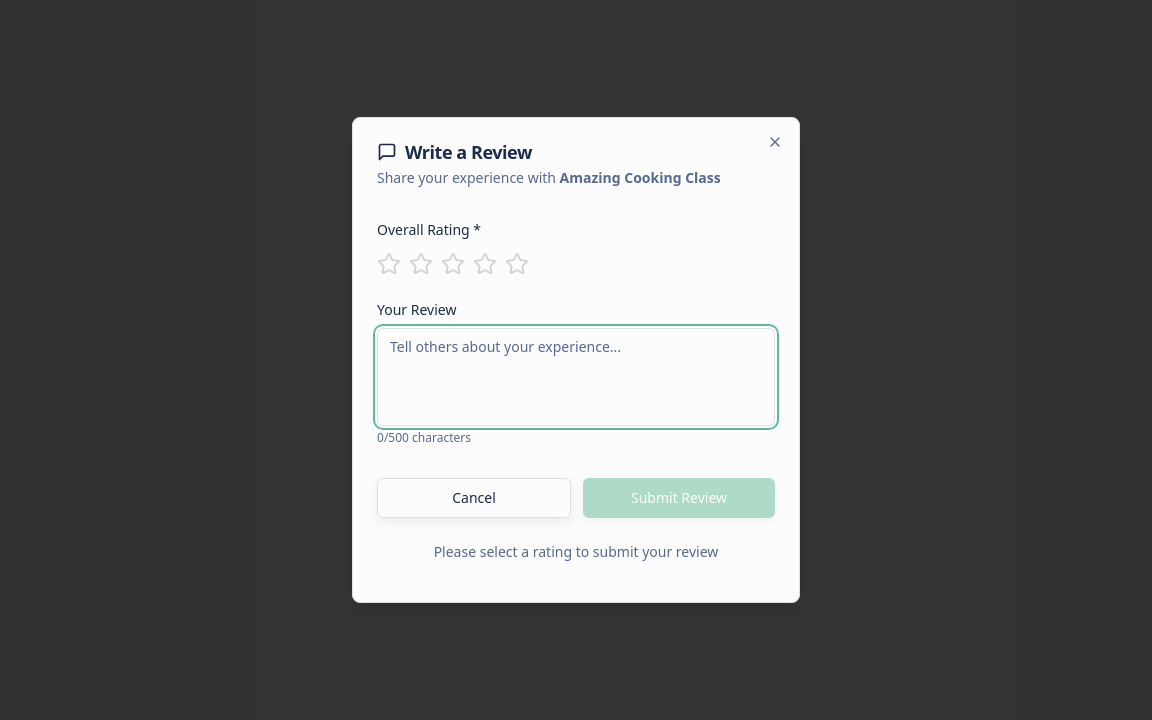
Scenario: WriteReviewModal › should update character count when typing review
Type "Great experience!" into the text box with placeholder "Tell others about your experience...". click: (576, 377)
box: [377, 328, 775, 426]
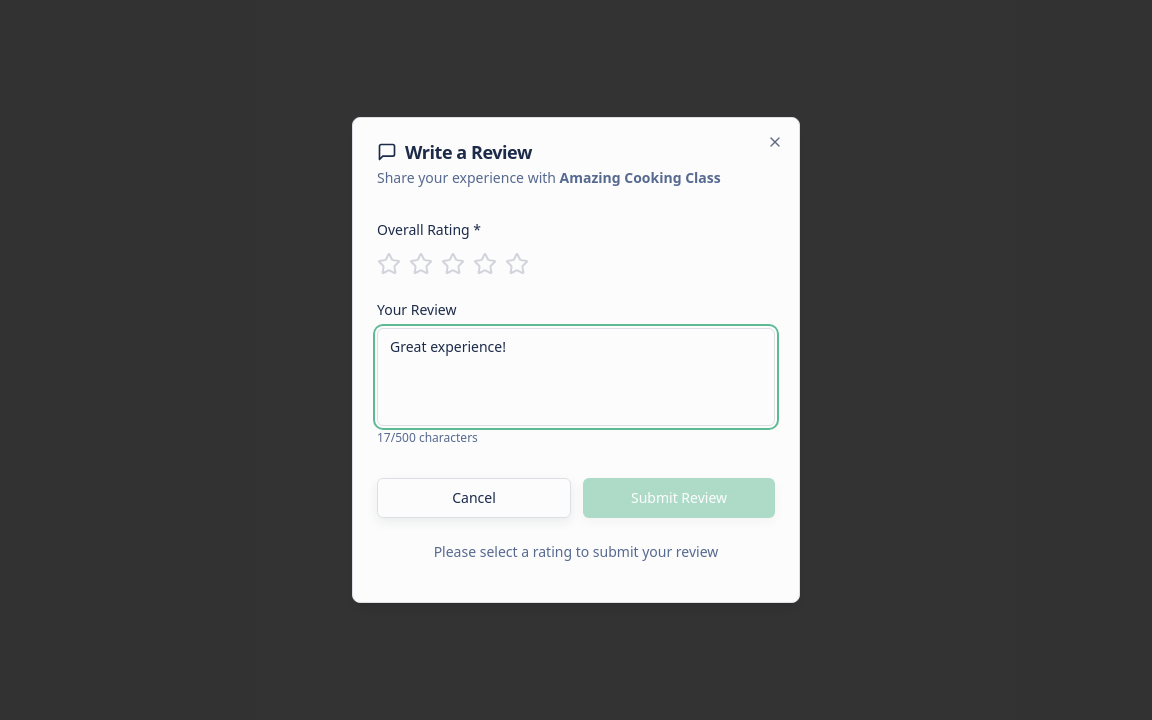
Expected: the text "17/500 characters" is shown, [377, 429, 478, 446]
